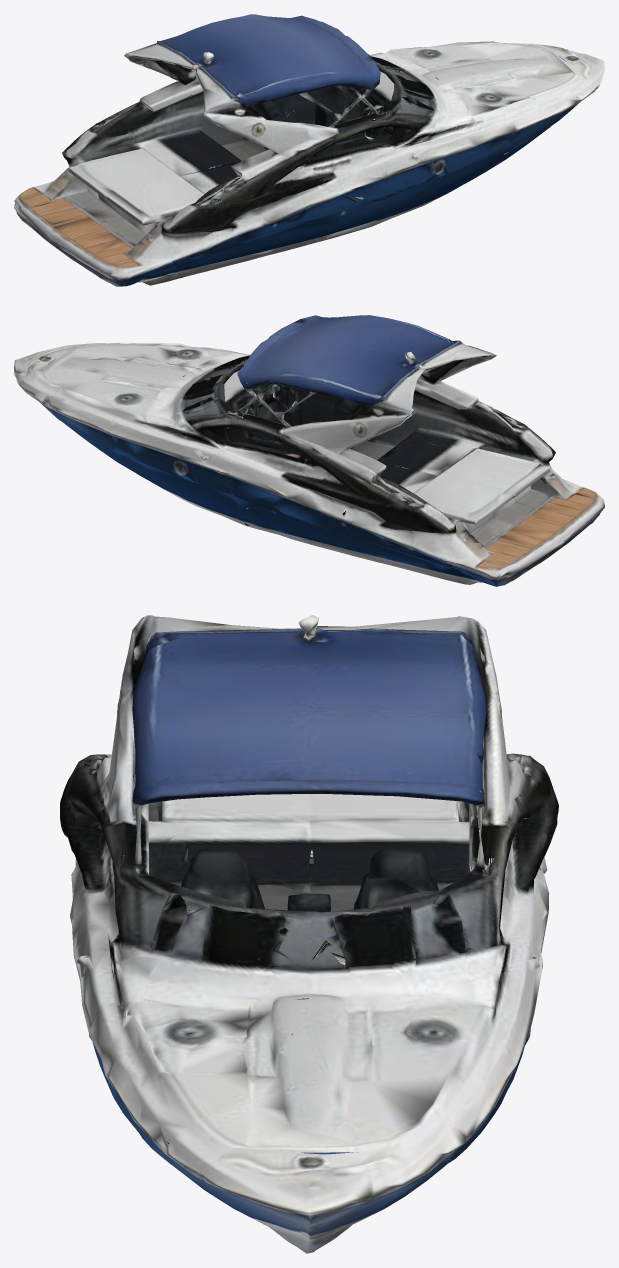
The model's file is speedboat.glb.
3 renders of one model, top to bottom at view 1: azimuth 30°, elevation 25°; view 2: azimuth 150°, elevation 25°; view 3: azimuth 270°, elevation 25°, orthographic. The views are drawn at different scales.
Parts seen in each view (by area): view 1: prop; view 2: prop; view 3: prop.
Part boxes in pixels (bbox=[...]): prop: bbox=[14, 14, 604, 286]; prop: bbox=[14, 315, 604, 586]; prop: bbox=[60, 615, 558, 1253].
Size of the model in its own units: 3.26 by 1 by 1.28.
1 material, 1 textured.
